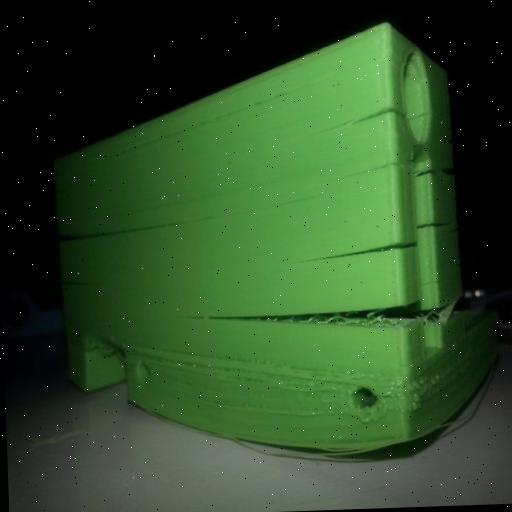cracks: (183, 226, 472, 366), (335, 76, 461, 192)
